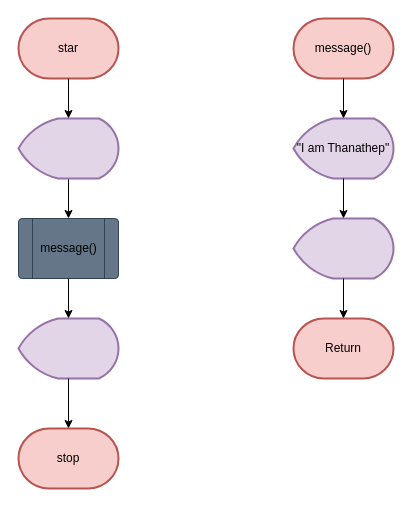
Image size: 411x506. Some labels were removed from this diagram. The shapes that lost their labels are listed below. From the top down, each one's box as (x1, y1, x2, y2) in pixels, then its label:
(17, 117, 119, 179): "I Have a message for you"
(292, 217, 394, 279): "King of tha Galaxy"
(17, 317, 119, 379): "Goodbly!"
